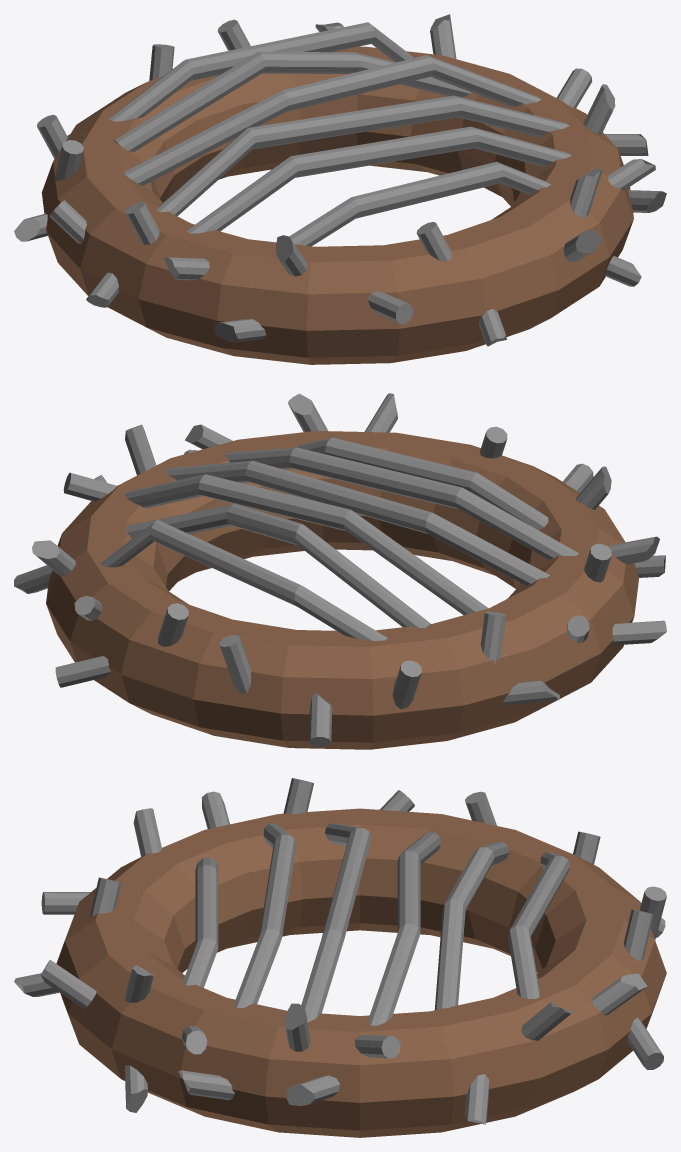
The model's file is ObranyVrcholbb.fbx.
3 views of the same model, one above another, from view 1: azimuth 30°, elevation 25°; view 2: azimuth 150°, elevation 25°; view 3: azimuth 270°, elevation 25° (orthographic). The views are drawn at different scales.
Visible parts, largest first — view 1: Torus, Válec.004, Válec.005, Válec.003, Válec.006, Válec.008, Válec.007, Válec.011, Válec.037, Válec.023, Válec.026, Válec.032 (+18 smaller); view 2: Torus, Válec.005, Válec.004, Válec.003, Válec.006, Válec.008, Válec.007, Válec.029, Válec.033, Válec.010, Válec.014, Válec.030 (+17 smaller); view 3: Torus, Válec.004, Válec.005, Válec.003, Válec.006, Válec.008, Válec.007, Válec.024, Válec.028, Válec.034, Válec.025, Válec.033 (+17 smaller).
Boxes of the visible parts, bbox=[...] form: Torus: bbox=[41, 46, 633, 364]; Válec.004: bbox=[156, 95, 569, 216]; Válec.005: bbox=[124, 55, 541, 185]; Válec.003: bbox=[187, 126, 571, 233]; Válec.006: bbox=[114, 51, 471, 151]; Válec.008: bbox=[109, 22, 412, 121]; Válec.007: bbox=[289, 161, 550, 246]; Válec.011: bbox=[570, 167, 602, 217]; Válec.037: bbox=[213, 319, 266, 342]; Válec.023: bbox=[367, 291, 412, 324]; Válec.026: bbox=[583, 84, 615, 135]; Válec.032: bbox=[125, 201, 159, 244]; Torus: bbox=[46, 431, 639, 749]; Válec.005: bbox=[124, 474, 488, 615]; Válec.004: bbox=[164, 460, 550, 585]; Válec.003: bbox=[225, 447, 578, 559]; Válec.006: bbox=[125, 504, 430, 627]; Válec.008: bbox=[101, 520, 387, 640]; Válec.007: bbox=[296, 437, 548, 530]; Válec.029: bbox=[219, 635, 250, 693]; Válec.033: bbox=[55, 656, 110, 687]; Válec.010: bbox=[612, 620, 666, 645]; Válec.014: bbox=[309, 692, 332, 746]; Válec.030: bbox=[392, 660, 421, 709]; Torus: bbox=[56, 808, 666, 1137]; Válec.004: bbox=[301, 823, 371, 1022]; Válec.005: bbox=[367, 832, 441, 1025]; Válec.003: bbox=[234, 823, 296, 1007]; Válec.006: bbox=[434, 842, 509, 1010]; Válec.008: bbox=[507, 852, 569, 998]; Válec.007: bbox=[183, 857, 218, 987]; Válec.024: bbox=[40, 960, 96, 1009]; Válec.028: bbox=[592, 973, 647, 1015]; Válec.034: bbox=[286, 1075, 339, 1106]; Válec.025: bbox=[178, 1070, 234, 1100]; Válec.033: bbox=[627, 1017, 663, 1069].
Size of the model in its own units: 5.68 by 5.85 by 1.63.
